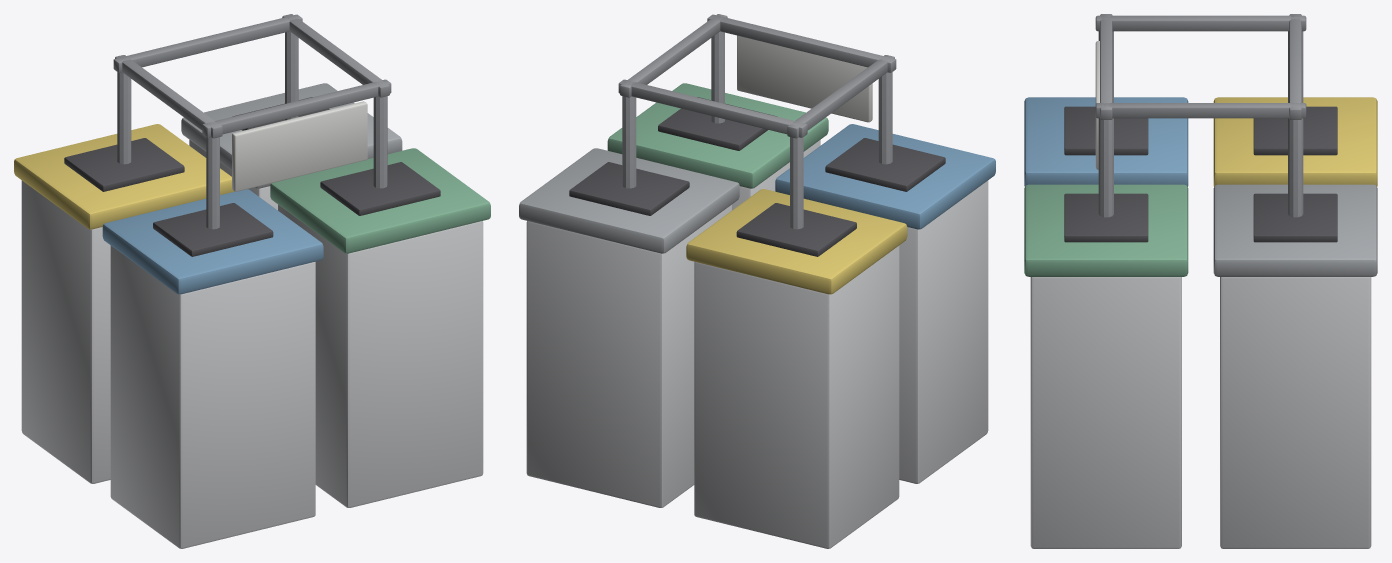
The model's file is trash_station_4bin.glb.
The picture shows the model from 3 angles, left to right: view 1: azimuth 30°, elevation 25°; view 2: azimuth 150°, elevation 25°; view 3: azimuth 270°, elevation 25°; orthographic projection. The views are drawn at different scales.
Visible parts, largest first — view 1: TrashStation4Bin; view 2: TrashStation4Bin; view 3: TrashStation4Bin.
Part boxes in pixels (x1,y1,x2,y2): TrashStation4Bin: (14,14,490,548); TrashStation4Bin: (519,14,995,548); TrashStation4Bin: (1024,14,1377,548).
Size of the model in its own units: 0.92 by 1.13 by 0.84.
